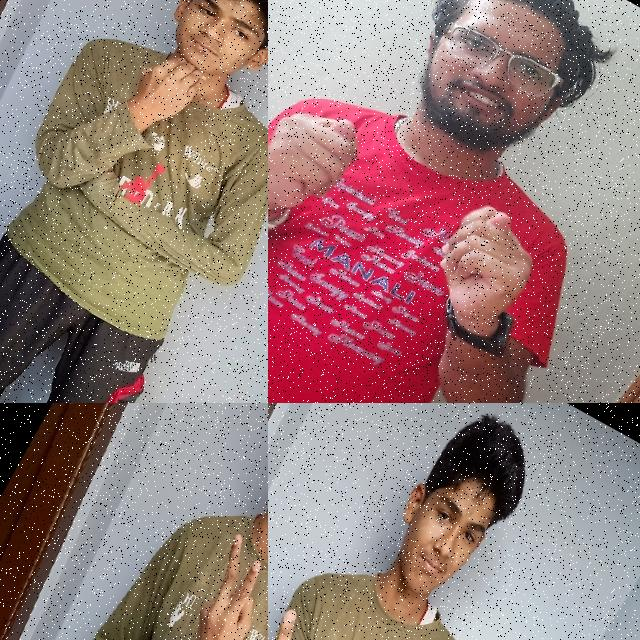Chin Flick: (92, 0, 268, 190)
Dulya: (401, 182, 570, 372), (268, 74, 390, 266)
Reversed Victory: (140, 526, 268, 640)
